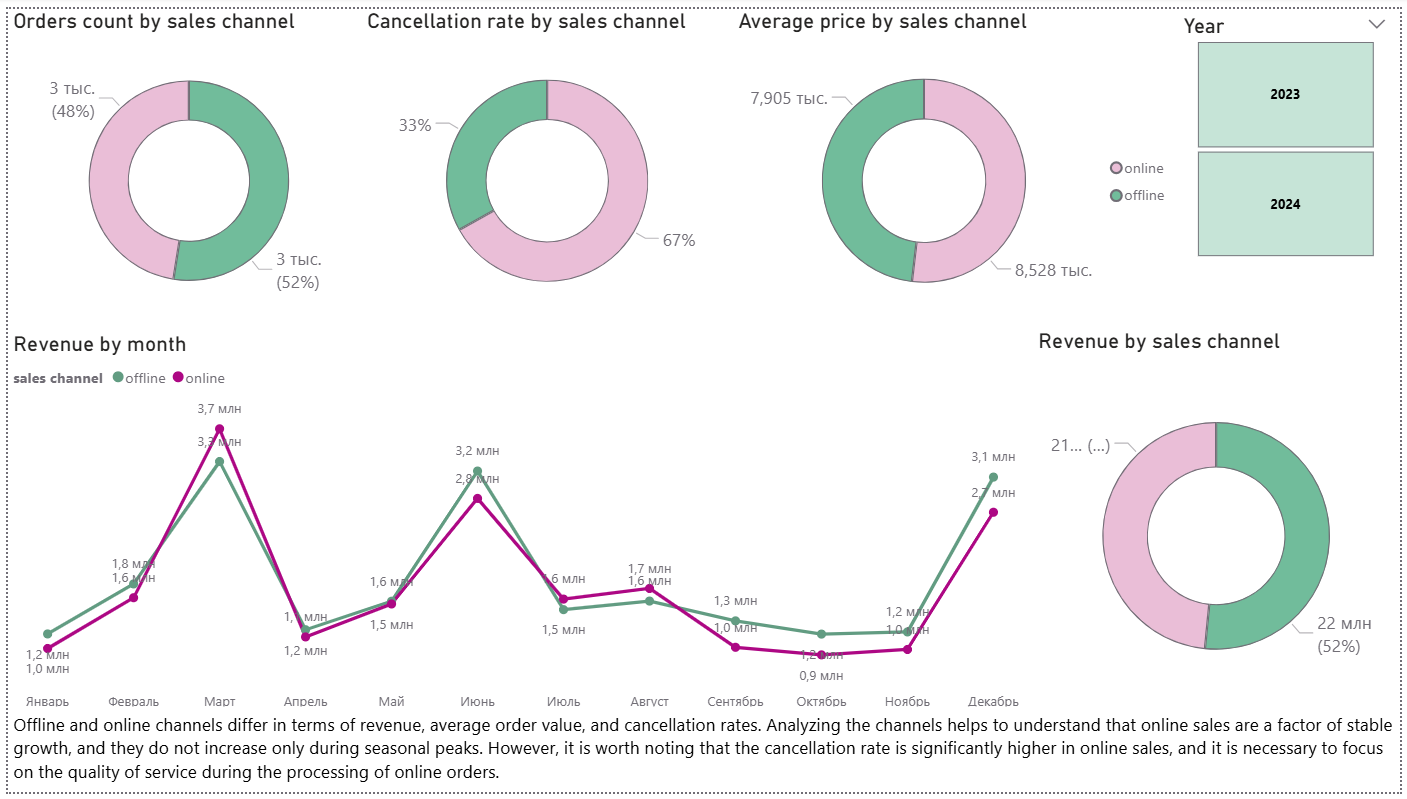

What the dashboard file says about the page in this screenshot:
{"tool":"powerbi","page":{"name":"Sales Channels","canvas":[1280,720],"ordinal":1},"visuals":[{"type":"donutChart","title":"Revenue by sales channel","fields":{"Y":["Measuress.Revenue"],"Category":["public orders.sales_channel"]},"box":[943,294.6,337.3,359.3],"z":0},{"type":"donutChart","title":"Orders count by sales channel","fields":{"Y":["Measuress.Orders Count"],"Category":["public orders.sales_channel"]},"box":[0,0,333.1,294.6],"z":1000},{"type":"donutChart","title":"Average price by sales channel","fields":{"Y":["Measuress.Average Order Value"],"Category":["public orders.sales_channel"]},"box":[666.3,0,411.6,294.6],"z":2000},{"type":"donutChart","title":"Cancellation rate by sales channel","fields":{"Y":["Measuress.Cancellation Rate"],"Category":["public orders.sales_channel"]},"box":[324.9,0,341.4,294.6],"z":3000},{"type":"lineChart","title":"Revenue by month","fields":{"Category":["Date.Month Name"],"Y":["Measuress.Revenue"],"Series":["public orders.sales_channel"]},"box":[0,296,943,357.9],"z":4000},{"type":"slicer","fields":{"Values":["Date.Year"]},"box":[1068.3,0,212,234],"z":5000},{"type":"textbox","box":[0,641.5,1280.3,78.5],"z":6000}]}

Visuals, with their boxes in screenshot pixels (x1, y1, x2, y2), scaled from the page's 1280x720 canvas onto the 1407x799 screenshot:
"Revenue by sales channel" donutChart: pyautogui.locateOnScreen(1037, 327, 1406, 726)
"Orders count by sales channel" donutChart: pyautogui.locateOnScreen(0, 0, 366, 327)
"Average price by sales channel" donutChart: pyautogui.locateOnScreen(732, 0, 1185, 327)
"Cancellation rate by sales channel" donutChart: pyautogui.locateOnScreen(357, 0, 732, 327)
"Revenue by month" lineChart: pyautogui.locateOnScreen(0, 328, 1037, 726)
slicer - Date.Year: pyautogui.locateOnScreen(1174, 0, 1406, 260)
textbox: pyautogui.locateOnScreen(0, 712, 1406, 798)
